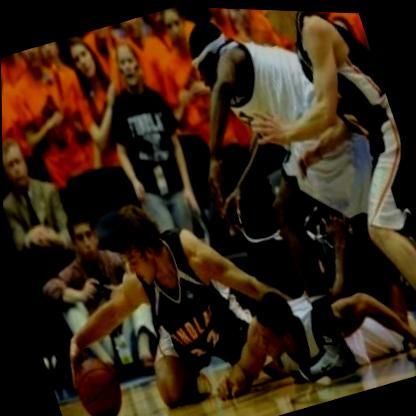basketball: (62, 345, 137, 416)
